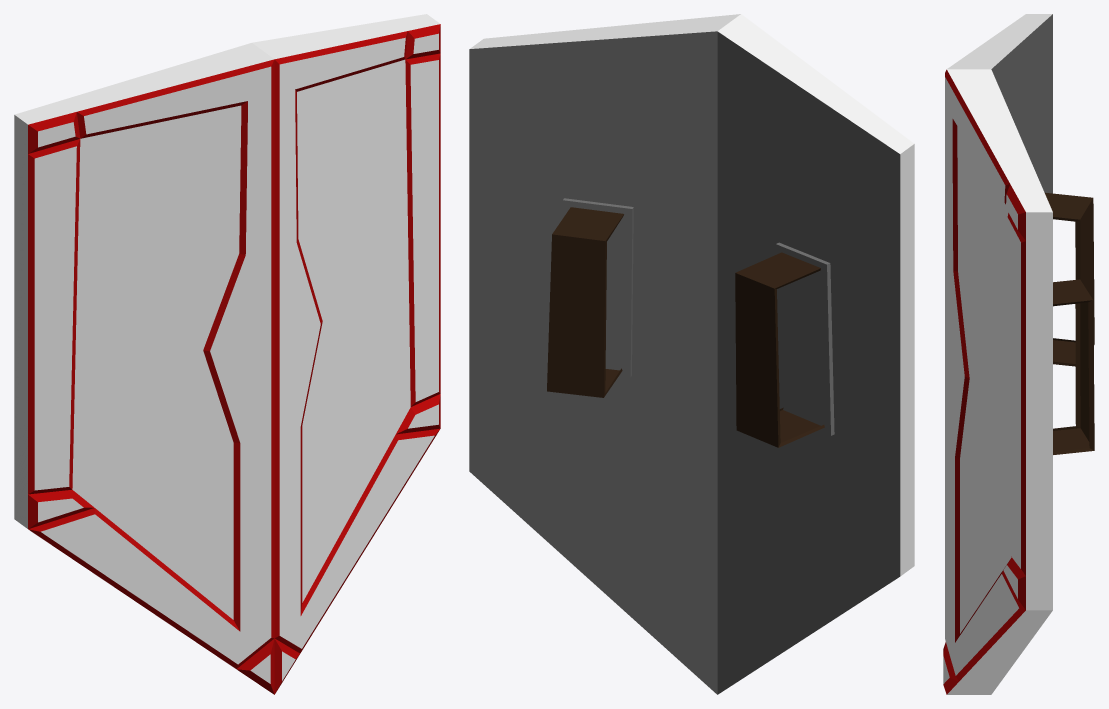
The model's file is escudo_do_Mozgus.fbx.
3 renders of one model, left to right at view 1: azimuth 30°, elevation 25°; view 2: azimuth 150°, elevation 25°; view 3: azimuth 270°, elevation 25°, orthographic. The views are drawn at different scales.
Parts seen in each view (by area): view 1: shield; view 2: shield; view 3: shield.
Part boxes in pixels (x1,y1,x2,y2): shield: (14,14,440,694); shield: (469,14,914,694); shield: (943,14,1094,694).
Bounding box in the file's own units: 72.99 × 107 × 23.58.
